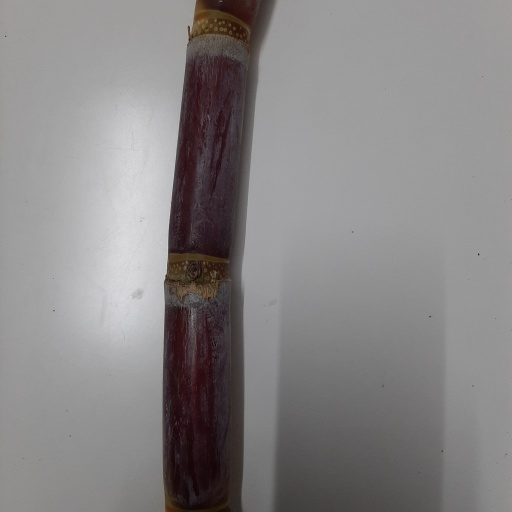Damage_Bud: (186, 259, 201, 280)
